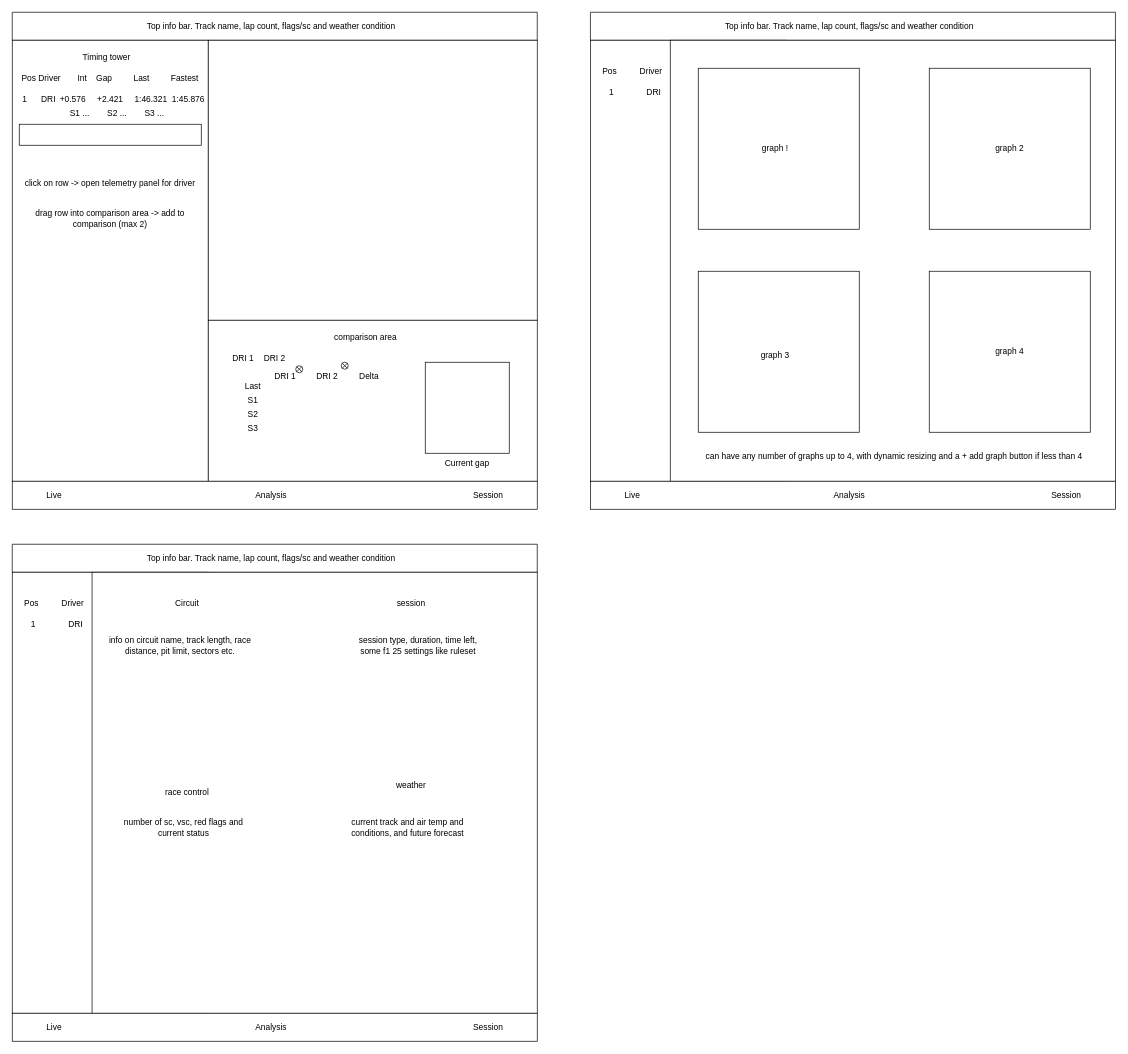
Image size: 1128x1054. Some labels were removed from this diagram. The centre of each missing label's shape, as x and y in pixels:
gap vs lap or time graph: (467,407)
speed, gear, tyre, pens: (110,134)
track map: (372,180)
